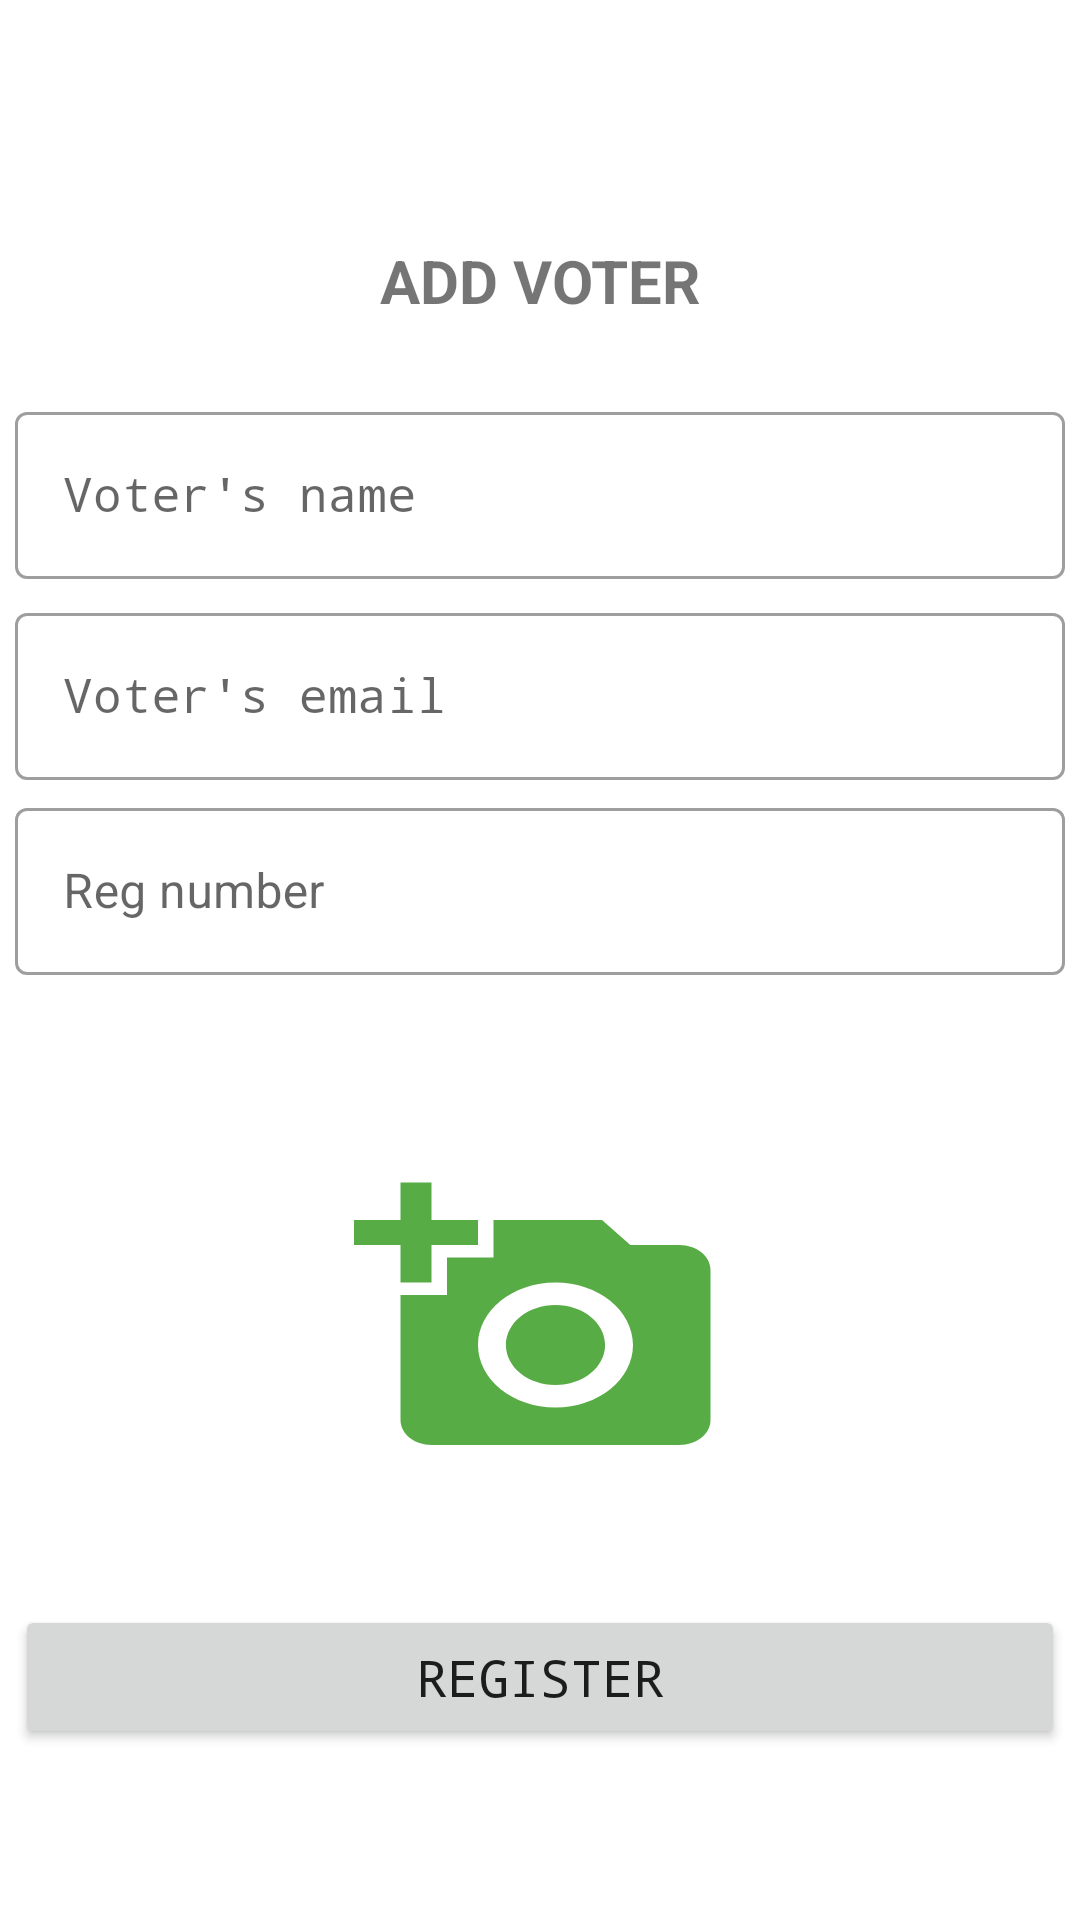

Icon bounding boxes for this 1080*1920 phone screenshot, format (x1, y1, x2, y2):
add photo: (354, 1182, 711, 1445)
